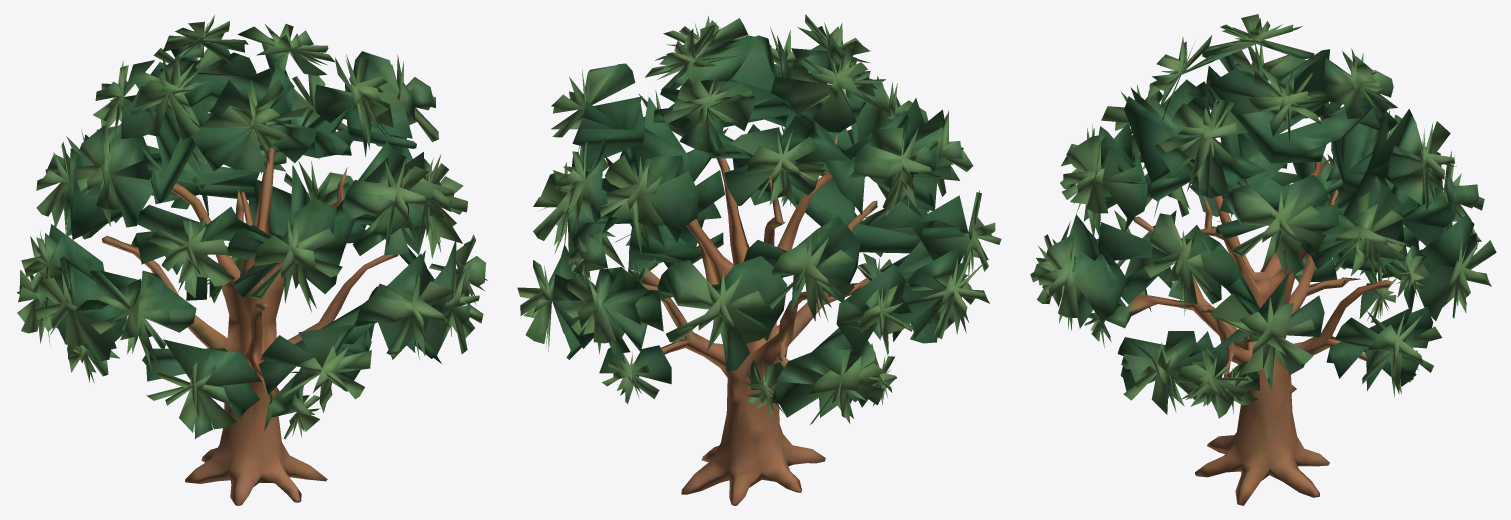
The model's file is broadleaf.glb.
3 renders of one model, left to right at view 1: azimuth 30°, elevation 25°; view 2: azimuth 150°, elevation 25°; view 3: azimuth 270°, elevation 25°, orthographic. The views are drawn at different scales.
Visible parts, largest first — view 1: tripo_node_f8cf146b-b84d-4801-b323-1cbf89716a5c; view 2: tripo_node_f8cf146b-b84d-4801-b323-1cbf89716a5c; view 3: tripo_node_f8cf146b-b84d-4801-b323-1cbf89716a5c.
Part boxes in pixels (bbox=[...]): tripo_node_f8cf146b-b84d-4801-b323-1cbf89716a5c: bbox=[17, 14, 487, 505]; tripo_node_f8cf146b-b84d-4801-b323-1cbf89716a5c: bbox=[517, 14, 1001, 505]; tripo_node_f8cf146b-b84d-4801-b323-1cbf89716a5c: bbox=[1030, 14, 1496, 505].
Size of the model in its own units: 0.998 by 0.998 by 0.9902.
Materials: 1 (1 with a texture image).
